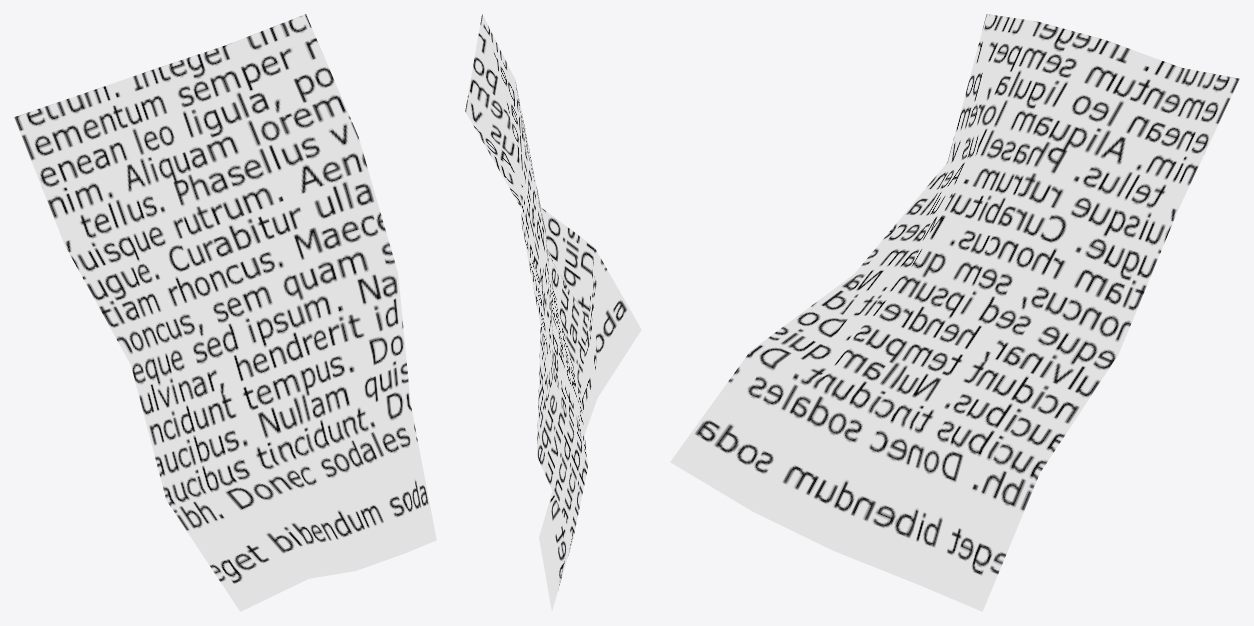
3 renders of one model, left to right at view 1: azimuth 30°, elevation 25°; view 2: azimuth 150°, elevation 25°; view 3: azimuth 270°, elevation 25°, orthographic. The views are drawn at different scales.
Parts seen in each view (by area): view 1: Plane.009; view 2: Plane.009; view 3: Plane.009.
Boxes of the visible parts, bbox=[...] form: Plane.009: bbox=[14, 14, 436, 611]; Plane.009: bbox=[465, 14, 641, 610]; Plane.009: bbox=[670, 14, 1239, 611].
Bounding box in the file's own units: 0.2846 × 0.7483 × 0.6096.
1 material, 1 textured.
